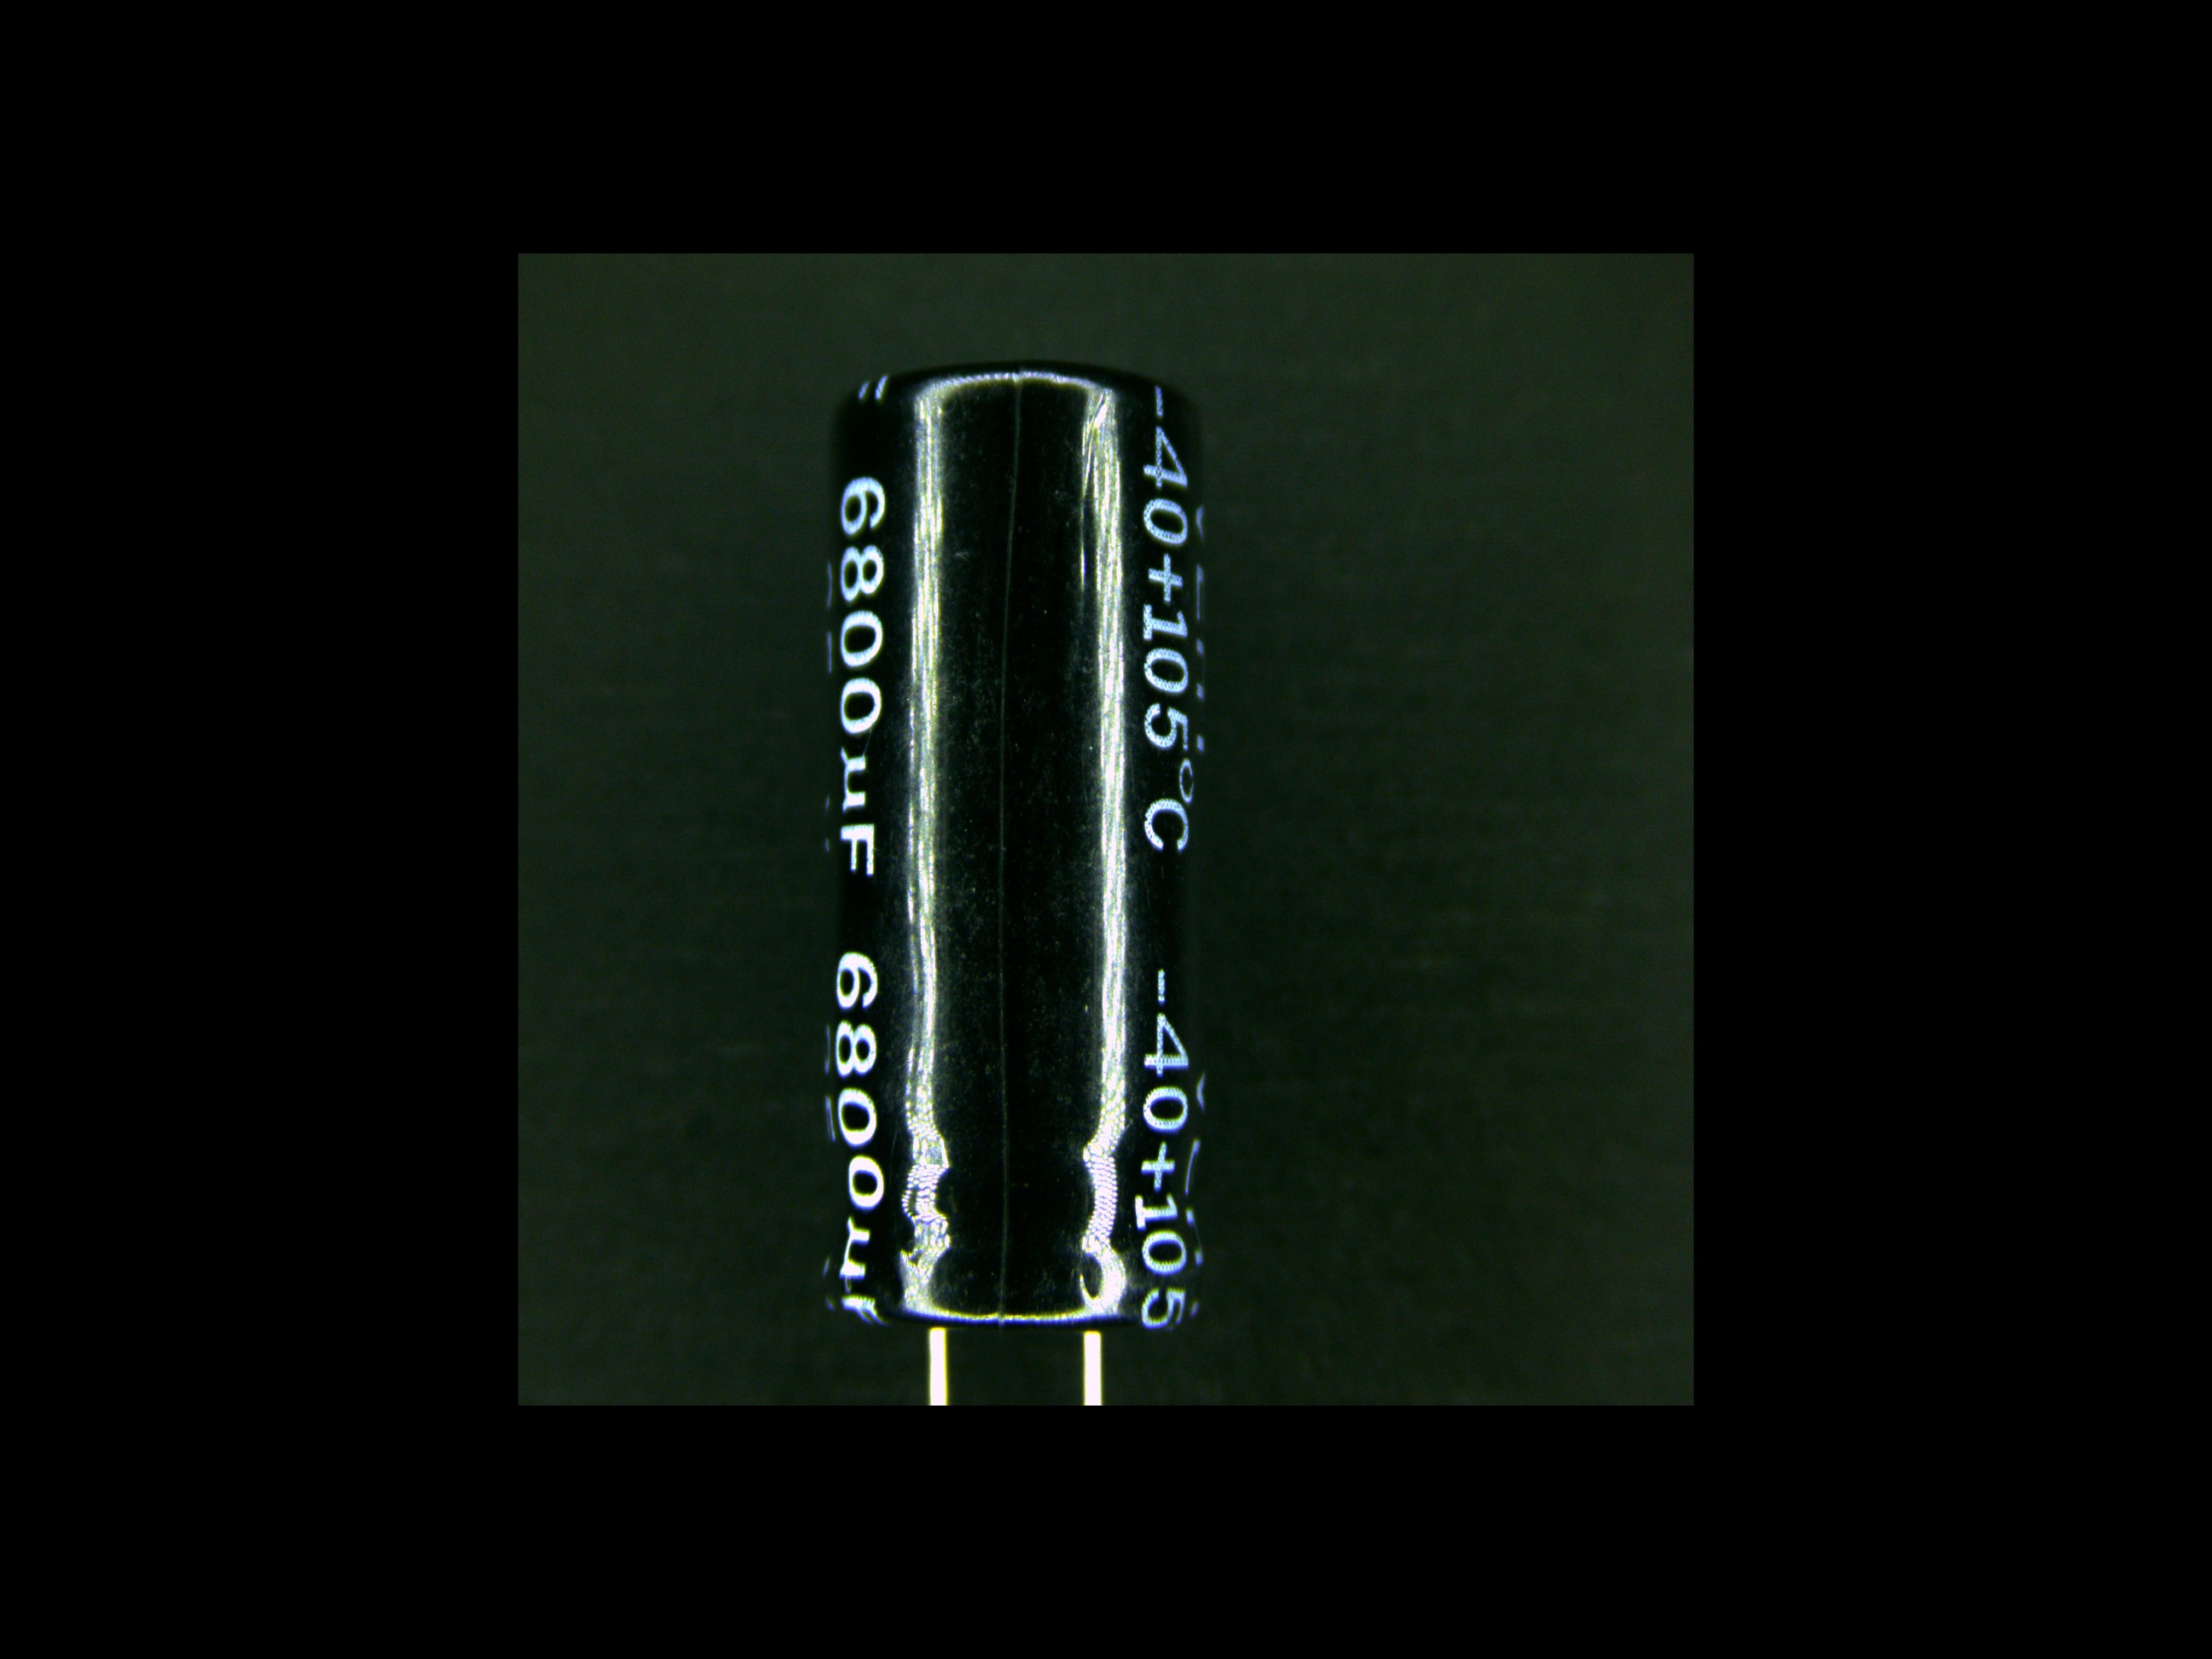c3: (817, 362, 1211, 1387)
